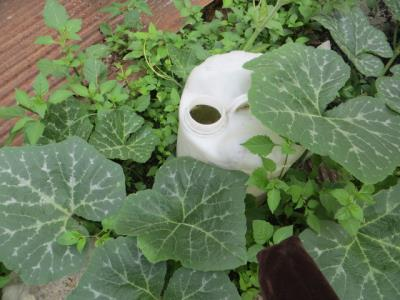bucket: (175, 50, 307, 198)
